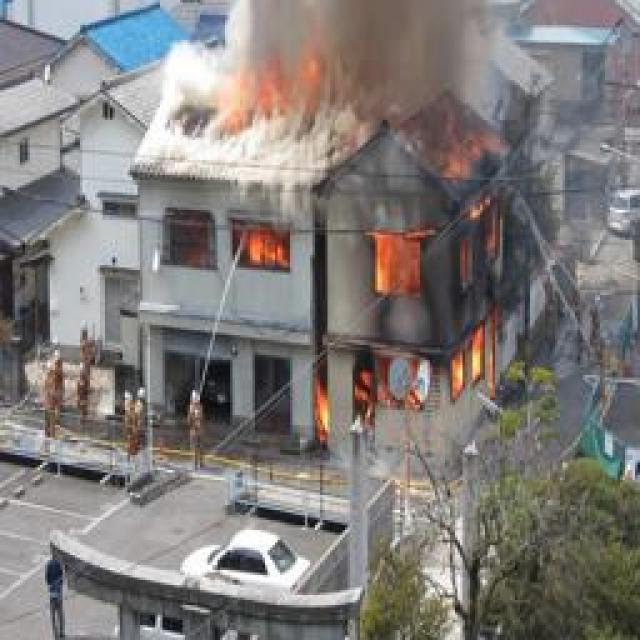Fire: (313, 125, 507, 447), (208, 53, 314, 130), (229, 221, 286, 271)
